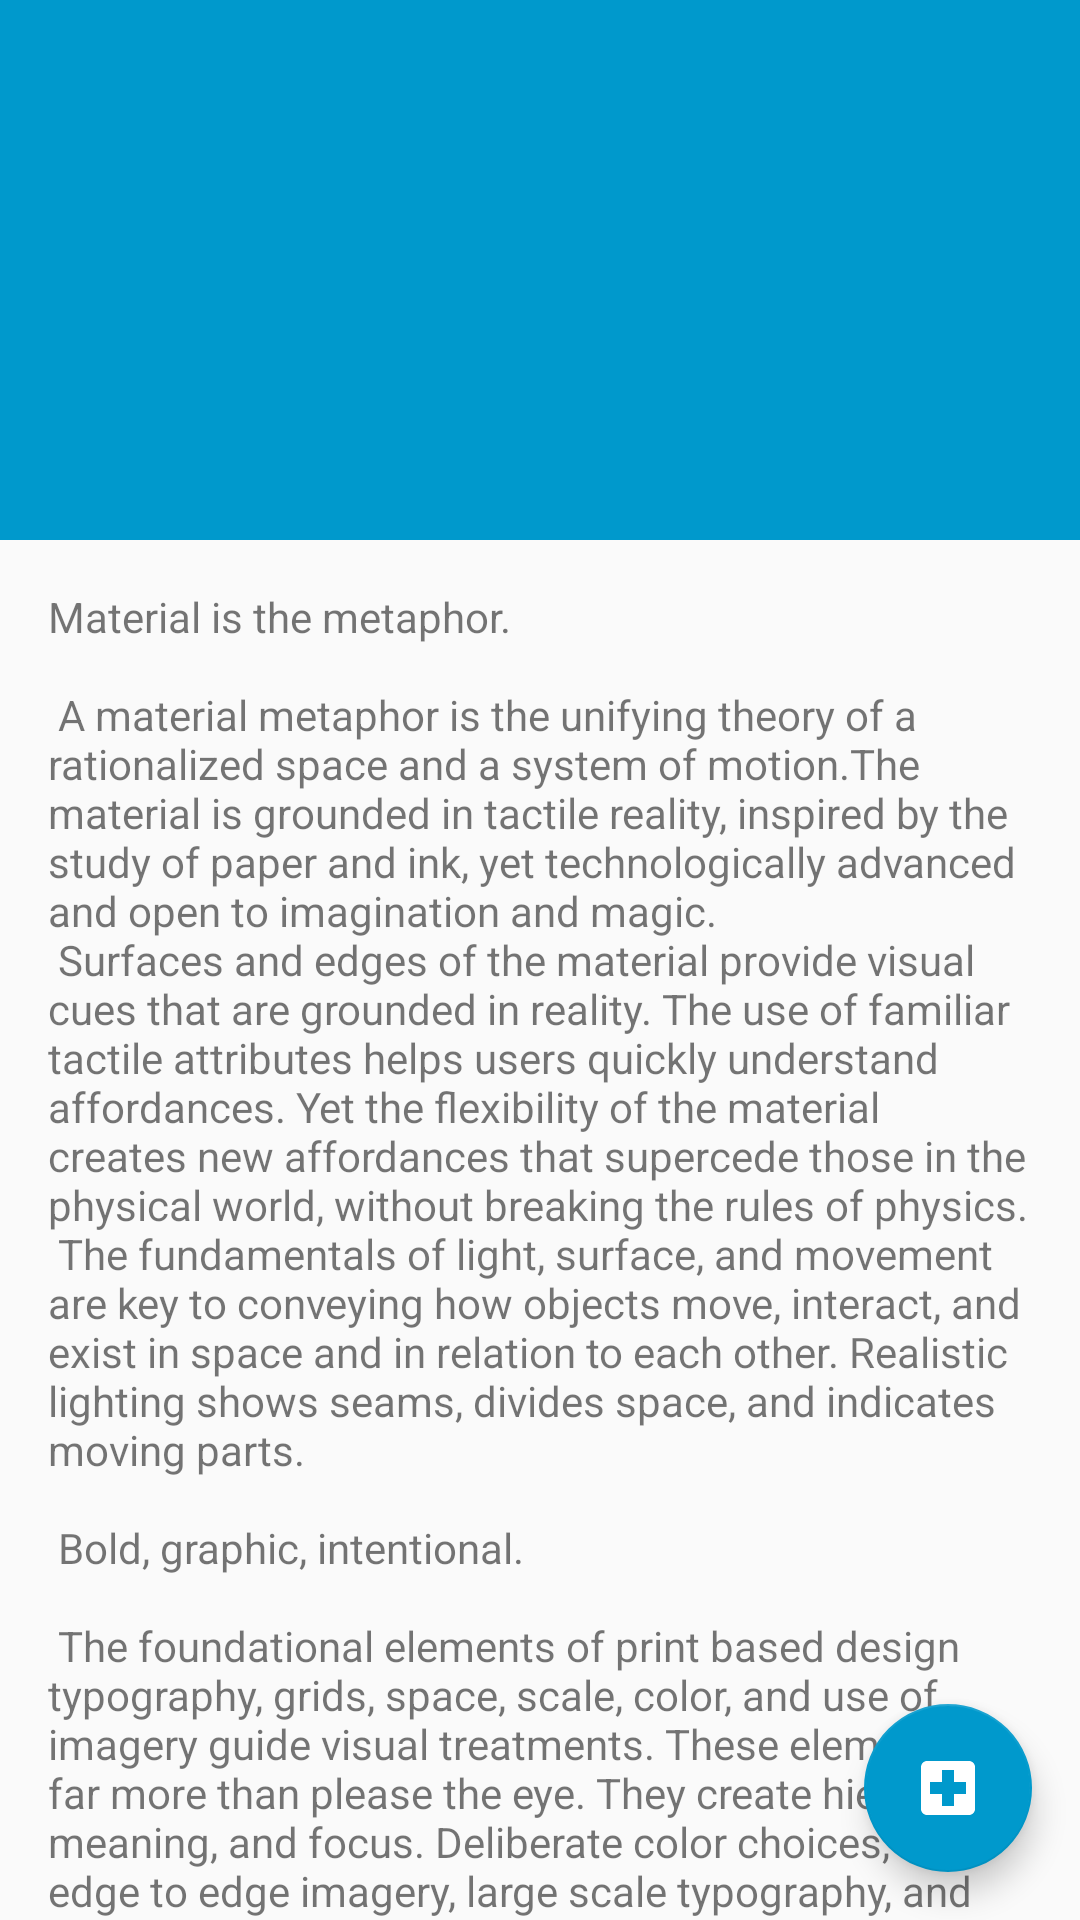

Screen size 1080px×1920px. Icon name, then its center in pixels as (x,y):
local hospital: (948,1788)
